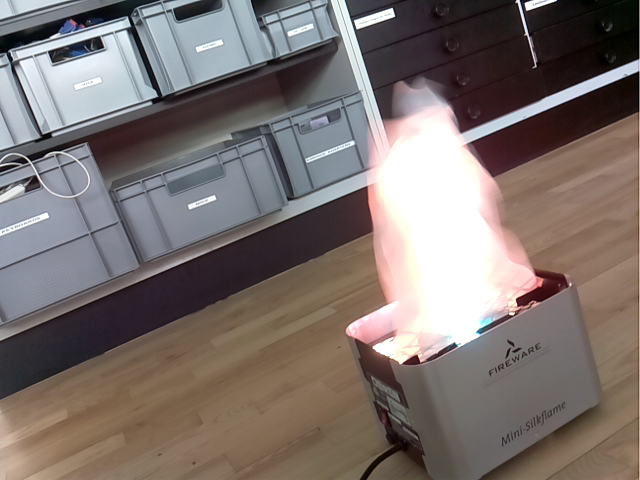fire: (366, 76, 540, 366)
